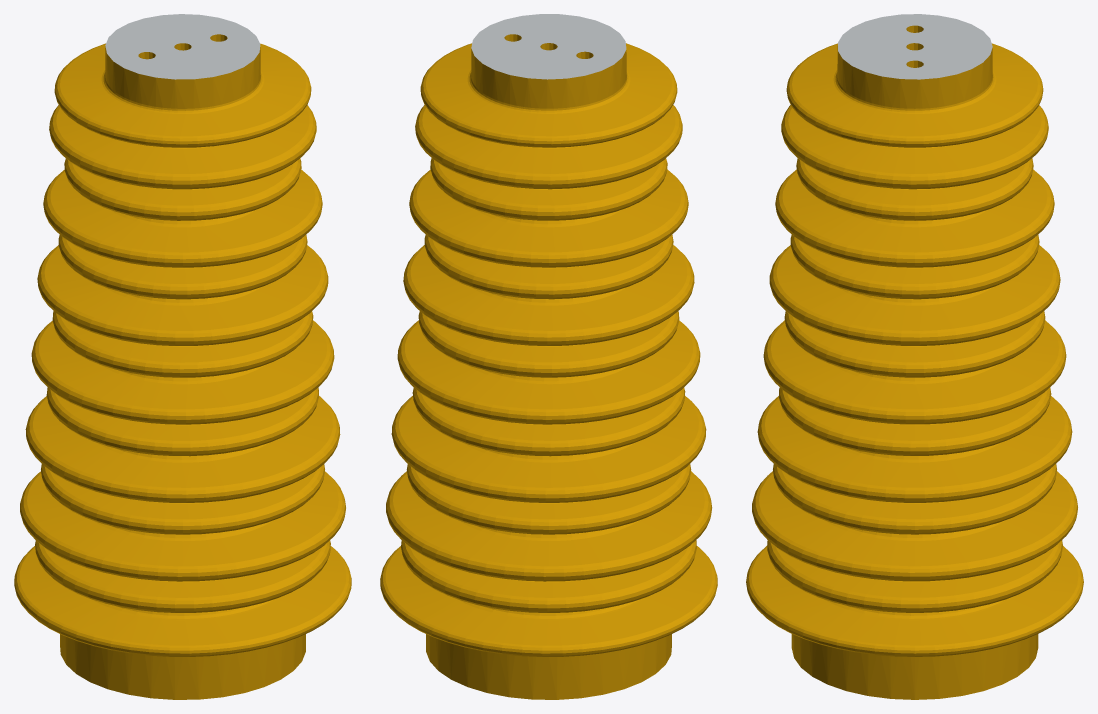
The picture shows the model from 3 angles, left to right: view 1: azimuth 30°, elevation 25°; view 2: azimuth 150°, elevation 25°; view 3: azimuth 270°, elevation 25°; orthographic projection.
Parts seen in each view (by area): view 1: 13; view 2: 13; view 3: 13.
Part boxes in pixels (left/top/right/bottom): 13: left=14, top=14, right=351, bottom=699; 13: left=380, top=14, right=717, bottom=699; 13: left=746, top=14, right=1083, bottom=699.
Size of the model in its own units: 163 by 320 by 163.
